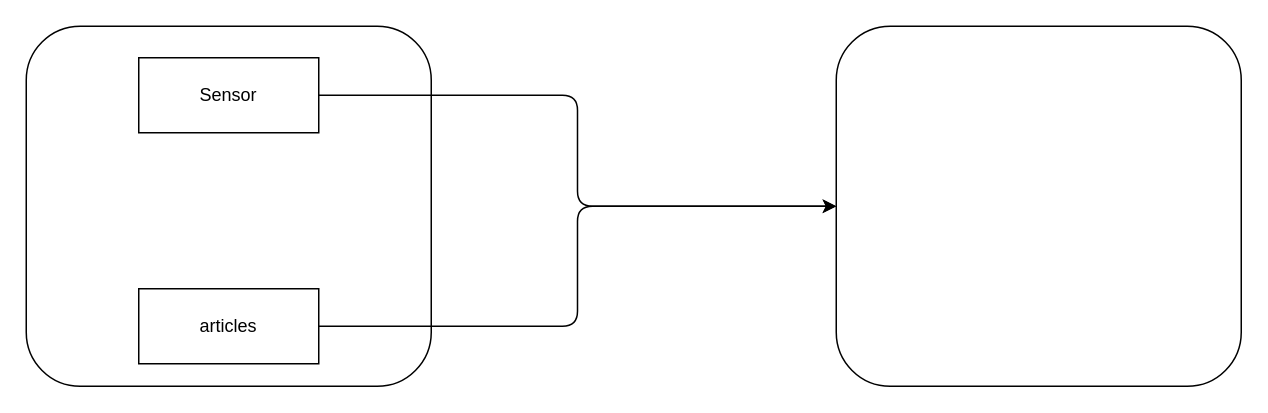
The diagram is 1268 pixels wide and 413 high, and some of its shapes have lost their labels. The shapes that lost their labels are listed below. From the top down, each one's box as (x1, y1, x2, y2) in pixels, then its label:
(25, 25, 431, 386): HOME (1.0.1)
(835, 25, 1241, 386): Sensors (1.0.1)
